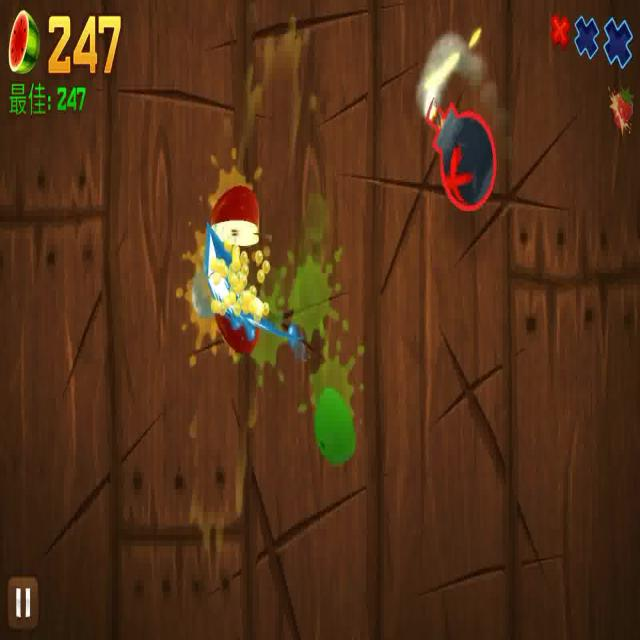bomb: (422, 89, 498, 210)
fruit: (313, 386, 357, 466), (212, 291, 267, 350), (210, 183, 259, 245)
